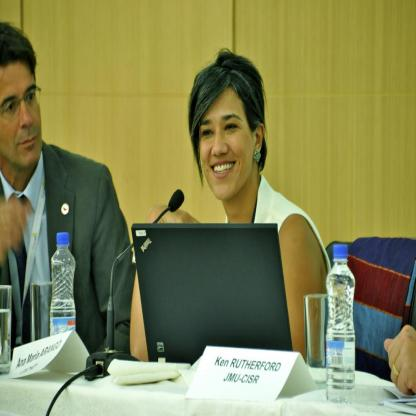board: (125, 220, 309, 372), (326, 242, 355, 402), (51, 233, 76, 337)
